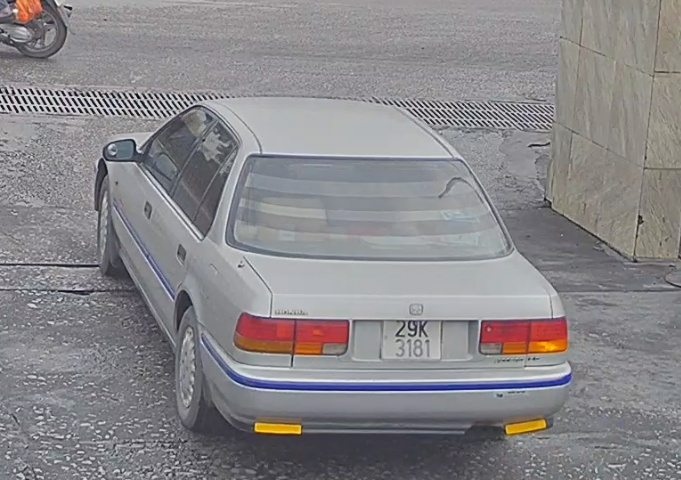vehicle plate: (376, 312, 444, 363)
